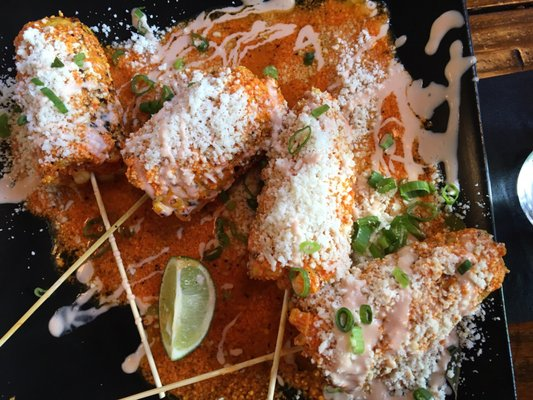soup: (0, 1, 515, 399)
